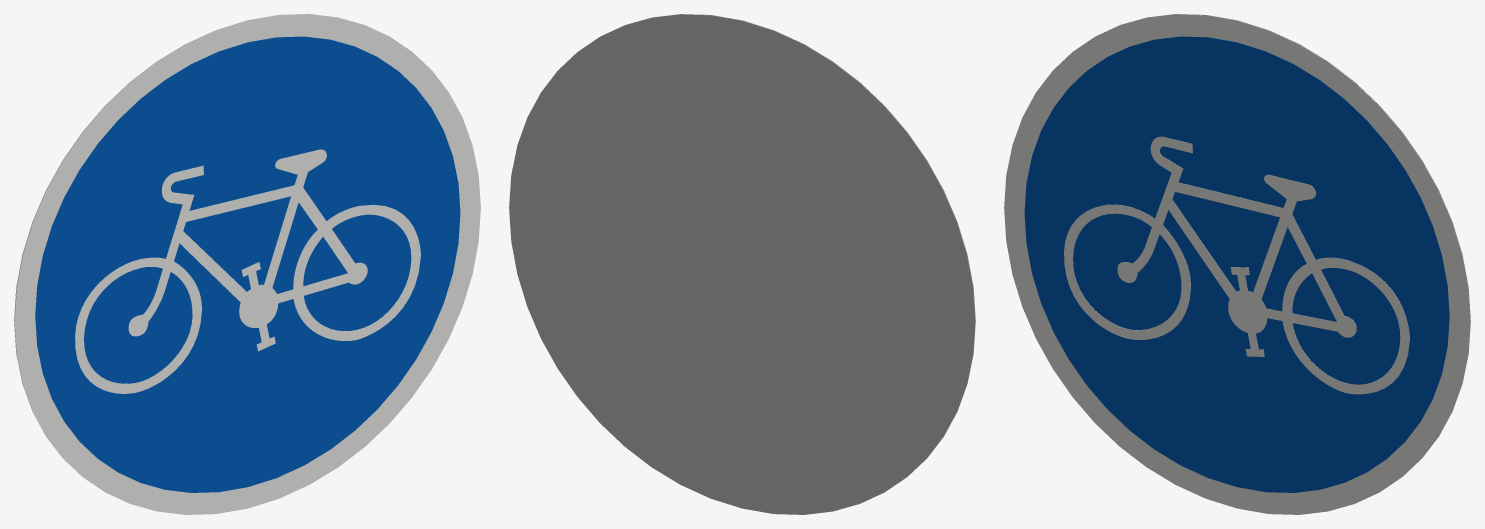
3 renders of one model, left to right at view 1: azimuth 30°, elevation 25°; view 2: azimuth 150°, elevation 25°; view 3: azimuth 330°, elevation 25°, orthographic.
Parts seen in each view (by area): view 1: B22a_p01, B22a_p00, B22a_p02, B22a_dos; view 2: B22a_dos, B22a_p00; view 3: B22a_p01, B22a_p00, B22a_p02, B22a_dos.
Boxes of the visible parts, x1,y1,x2,y2 form: B22a_p01: [35, 36, 460, 492]; B22a_p00: [14, 14, 480, 514]; B22a_p02: [75, 149, 420, 393]; B22a_dos: [14, 14, 385, 473]; B22a_dos: [509, 14, 975, 514]; B22a_p00: [604, 14, 975, 473]; B22a_p01: [1024, 36, 1449, 492]; B22a_p00: [1004, 14, 1470, 514]; B22a_p02: [1064, 136, 1409, 394]; B22a_dos: [1099, 14, 1470, 473].
Size of the model in its own units: 0.85 by 0.8498 by 0.0027.
